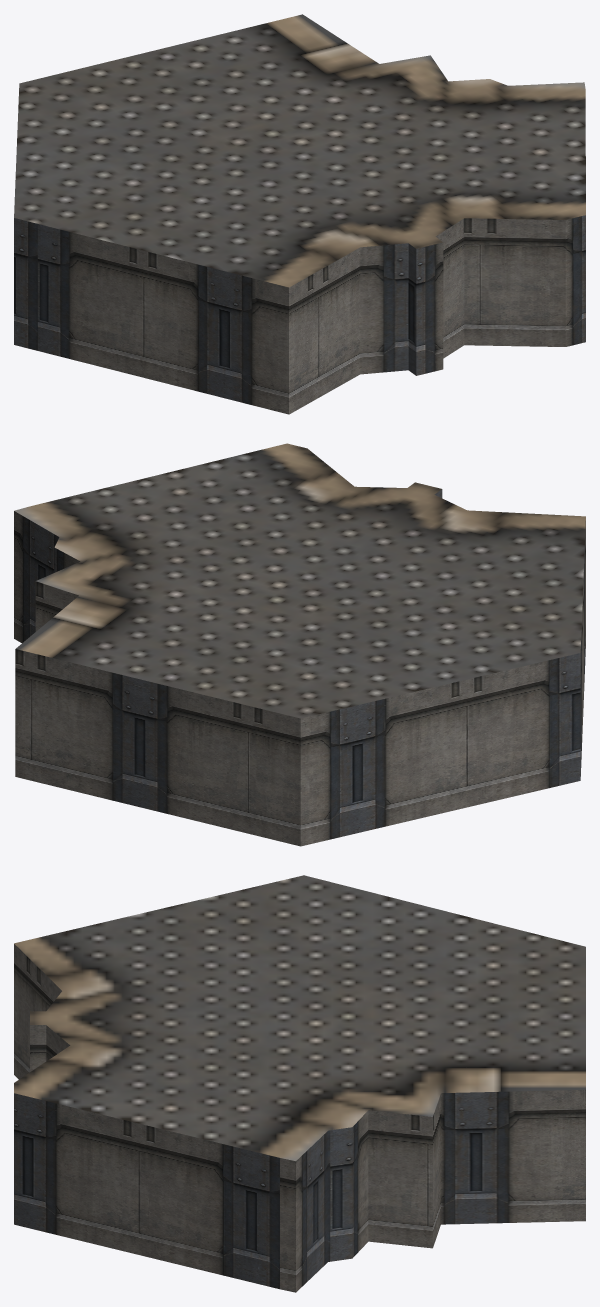
Rendered from building_heavy_a_53.glb.
The picture shows the model from 3 angles, top to bottom: view 1: azimuth 30°, elevation 25°; view 2: azimuth 150°, elevation 25°; view 3: azimuth 270°, elevation 25°; orthographic projection. The views are drawn at different scales.
Parts seen in each view (by area): view 1: buildings/saxarba/building_heavy/building_heavy_a_53; view 2: buildings/saxarba/building_heavy/building_heavy_a_53; view 3: buildings/saxarba/building_heavy/building_heavy_a_53.
Part boxes in pixels (box(x1,y1,x2,y2)): buildings/saxarba/building_heavy/building_heavy_a_53: box(14, 14, 585, 414); buildings/saxarba/building_heavy/building_heavy_a_53: box(14, 443, 585, 846); buildings/saxarba/building_heavy/building_heavy_a_53: box(14, 875, 585, 1292).
Size of the model in its own units: 84 by 18 by 71.
